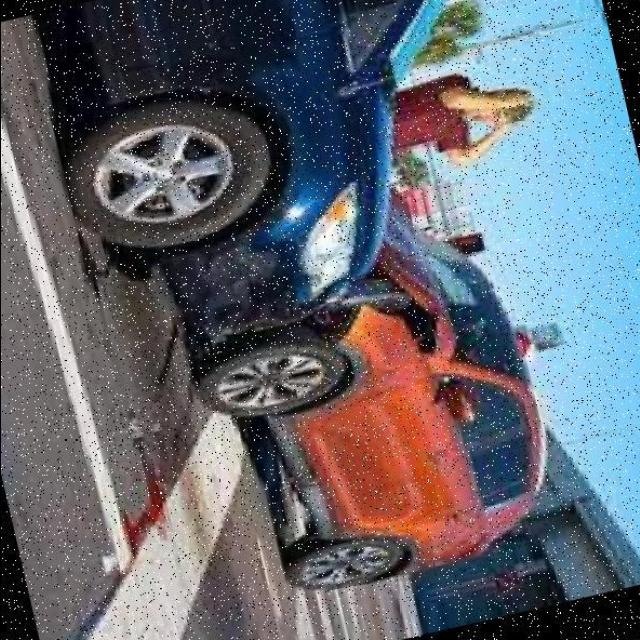accident: (26, 0, 629, 631)
